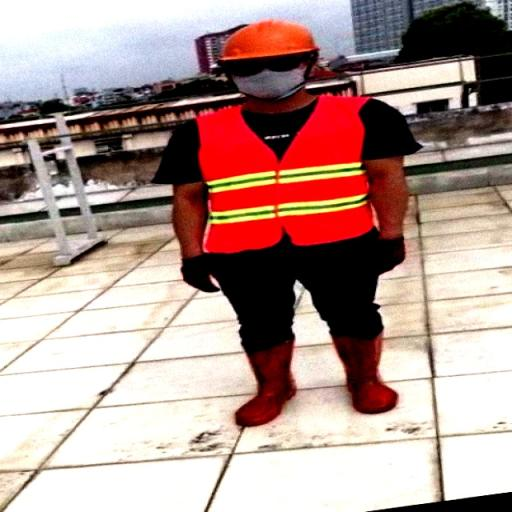Person: (139, 14, 448, 438)
boots: (326, 312, 449, 415), (219, 328, 321, 432)
gloves: (356, 222, 414, 279), (172, 253, 238, 303)
goggles: (208, 51, 320, 78)
helmet: (208, 24, 322, 63)
vest: (178, 92, 380, 258)
